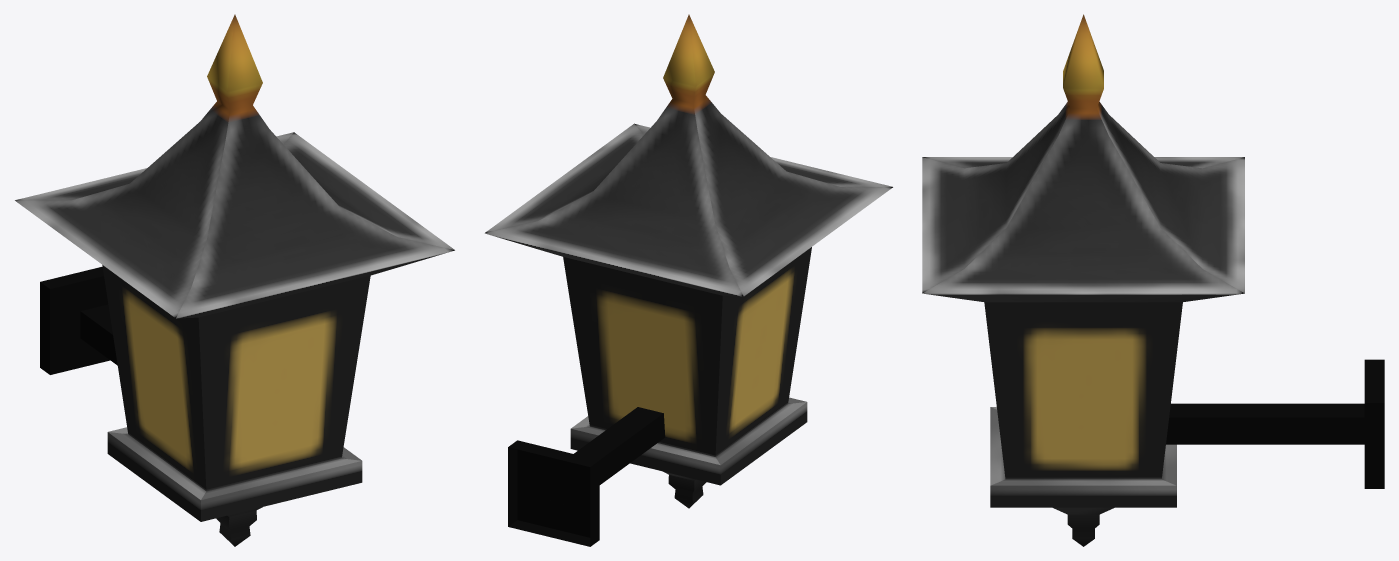
The model's file is zhucheng_deng.FBX.
3 views of the same model, side by side, from view 1: azimuth 30°, elevation 25°; view 2: azimuth 150°, elevation 25°; view 3: azimuth 270°, elevation 25° (orthographic). The views are drawn at different scales.
Visible parts, largest first — view 1: zhucheng_deng; view 2: zhucheng_deng; view 3: zhucheng_deng.
Boxes of the visible parts, box(x1,y1,x2,y2) form: zhucheng_deng: box(15, 14, 454, 546); zhucheng_deng: box(485, 14, 892, 546); zhucheng_deng: box(922, 14, 1384, 546).
Size of the model in its own units: 29.02 by 52.85 by 41.57.
